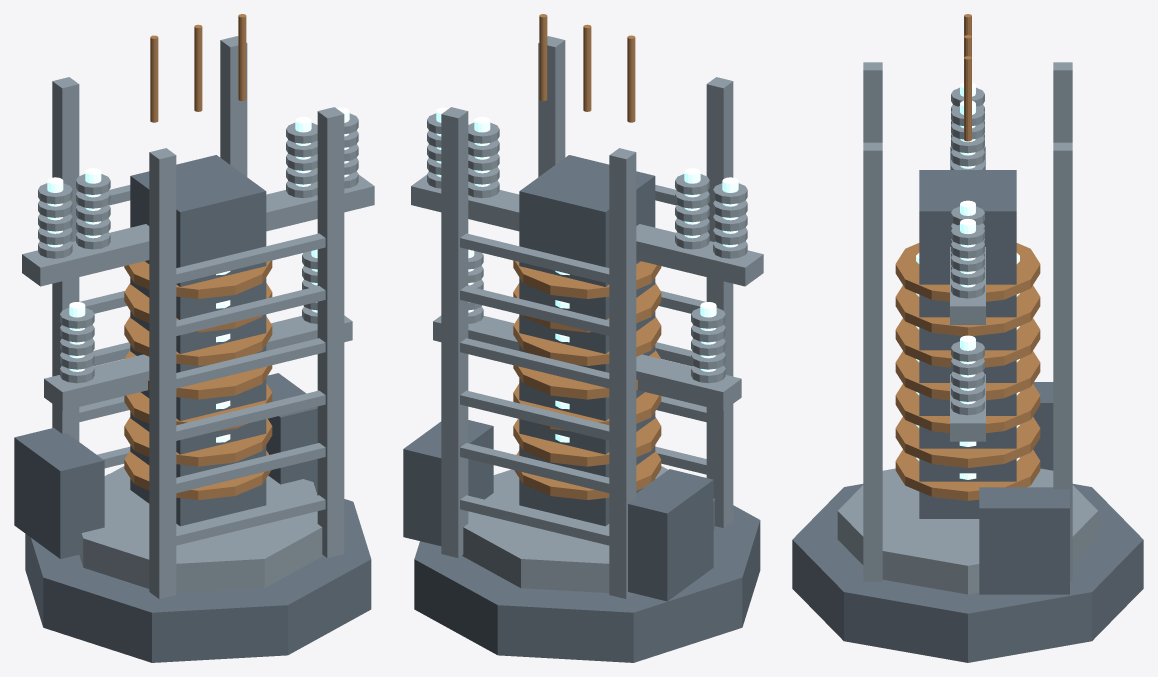
File: relay_t2.glb
3 renders of one model, left to right at view 1: azimuth 30°, elevation 25°; view 2: azimuth 150°, elevation 25°; view 3: azimuth 270°, elevation 25°, orthographic. The views are drawn at different scales.
Parts seen in each view (by area): view 1: Lattice leg (×4), Foundation, Transformer, Lattice tie (×9), Base upper armor, Switchgear (×2), Induction loop (×7), Crossarm (×2), Crown conductor (×3); view 2: Lattice leg (×4), Foundation, Transformer, Lattice tie (×10), Switchgear (×2), Induction loop (×7), Crossarm (×2), Base upper armor, Crown conductor (×3); view 3: Foundation, Lattice leg (×4), Induction loop (×7), Transformer, Base upper armor, Switchgear (×2), Crossarm (×2), Crown conductor.
Boxes of the visible parts, box(x1,y1,x2,y2) form: Lattice leg (×4): box(52, 36, 344, 598); Foundation: box(25, 474, 371, 662); Transformer: box(130, 155, 266, 526); Lattice tie (×9): box(79, 233, 325, 545); Base upper armor: box(79, 466, 323, 592); Switchgear (×2): box(14, 373, 317, 558); Induction loop (×7): box(124, 260, 272, 499); Crossarm (×2): box(22, 175, 374, 410); Crown conductor (×3): box(150, 14, 246, 122); Lattice leg (×4): box(441, 36, 733, 598); Foundation: box(414, 505, 760, 662); Transformer: box(519, 155, 655, 526); Lattice tie (×10): box(460, 233, 706, 545); Switchgear (×2): box(403, 420, 713, 601); Induction loop (×7): box(513, 260, 661, 499); Crossarm (×2): box(411, 175, 763, 410); Base upper armor: box(462, 466, 715, 592); Crown conductor (×3): box(539, 14, 635, 122); Foundation: box(792, 484, 1143, 662); Lattice leg (×4): box(863, 62, 1072, 581); Induction loop (×7): box(895, 243, 1040, 500); Transformer: box(919, 170, 1016, 518); Base upper armor: box(837, 468, 1098, 594); Switchgear (×2): box(979, 382, 1069, 594); Crossarm (×2): box(950, 146, 985, 441); Crown conductor: box(964, 56, 971, 141).
Bounding box in the file's own units: 1.67 × 2.69 × 1.55.
